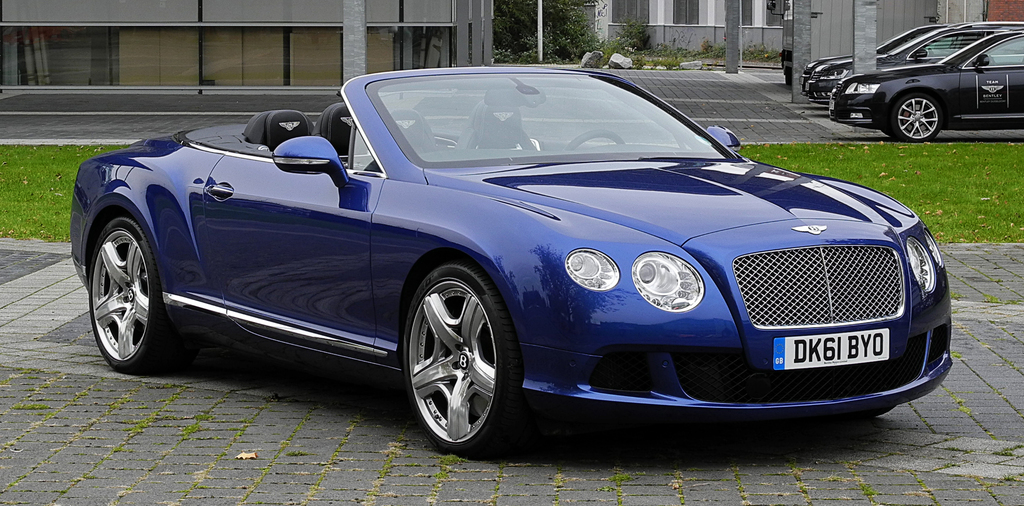cars: (68, 64, 953, 454), (829, 31, 1023, 144), (804, 28, 1008, 103), (801, 21, 972, 96)
